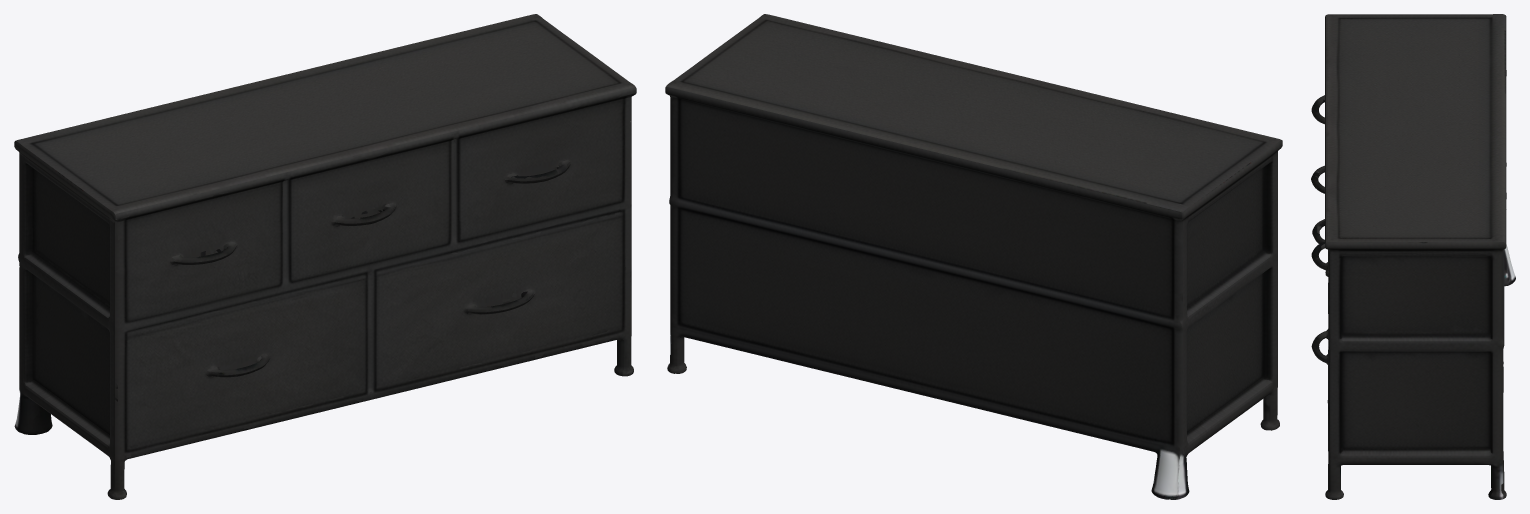
File: cabinet__cabinet#1.glb
The picture shows the model from 3 angles, left to right: view 1: azimuth 30°, elevation 25°; view 2: azimuth 150°, elevation 25°; view 3: azimuth 270°, elevation 25°; orthographic projection. The views are drawn at different scales.
Parts seen in each view (by area): view 1: tmp8yegyepu.ply; view 2: tmp8yegyepu.ply; view 3: tmp8yegyepu.ply.
Part boxes in pixels (x1=…): tmp8yegyepu.ply: x1=14, y1=14, x2=636, y2=499; tmp8yegyepu.ply: x1=665, y1=14, x2=1282, y2=499; tmp8yegyepu.ply: x1=1311, y1=14, x2=1515, y2=499.
Size of the model in its own units: 1.99 by 1.06 by 0.7531.
Materials: 1 (1 with a texture image).
